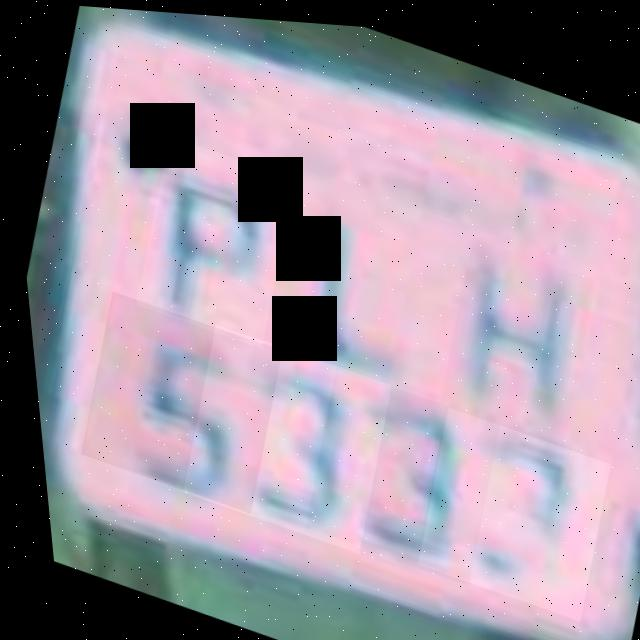3: (159, 317, 399, 553), (283, 359, 504, 582), (395, 398, 614, 616)
5: (59, 287, 288, 513)
H: (419, 228, 603, 440)
P: (116, 130, 304, 348)
